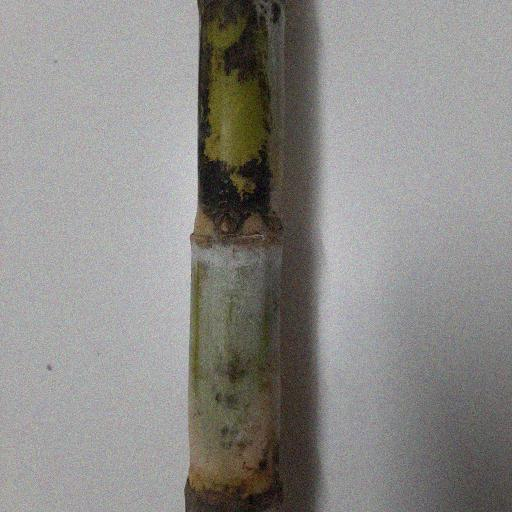Bud: (216, 211, 238, 237)
